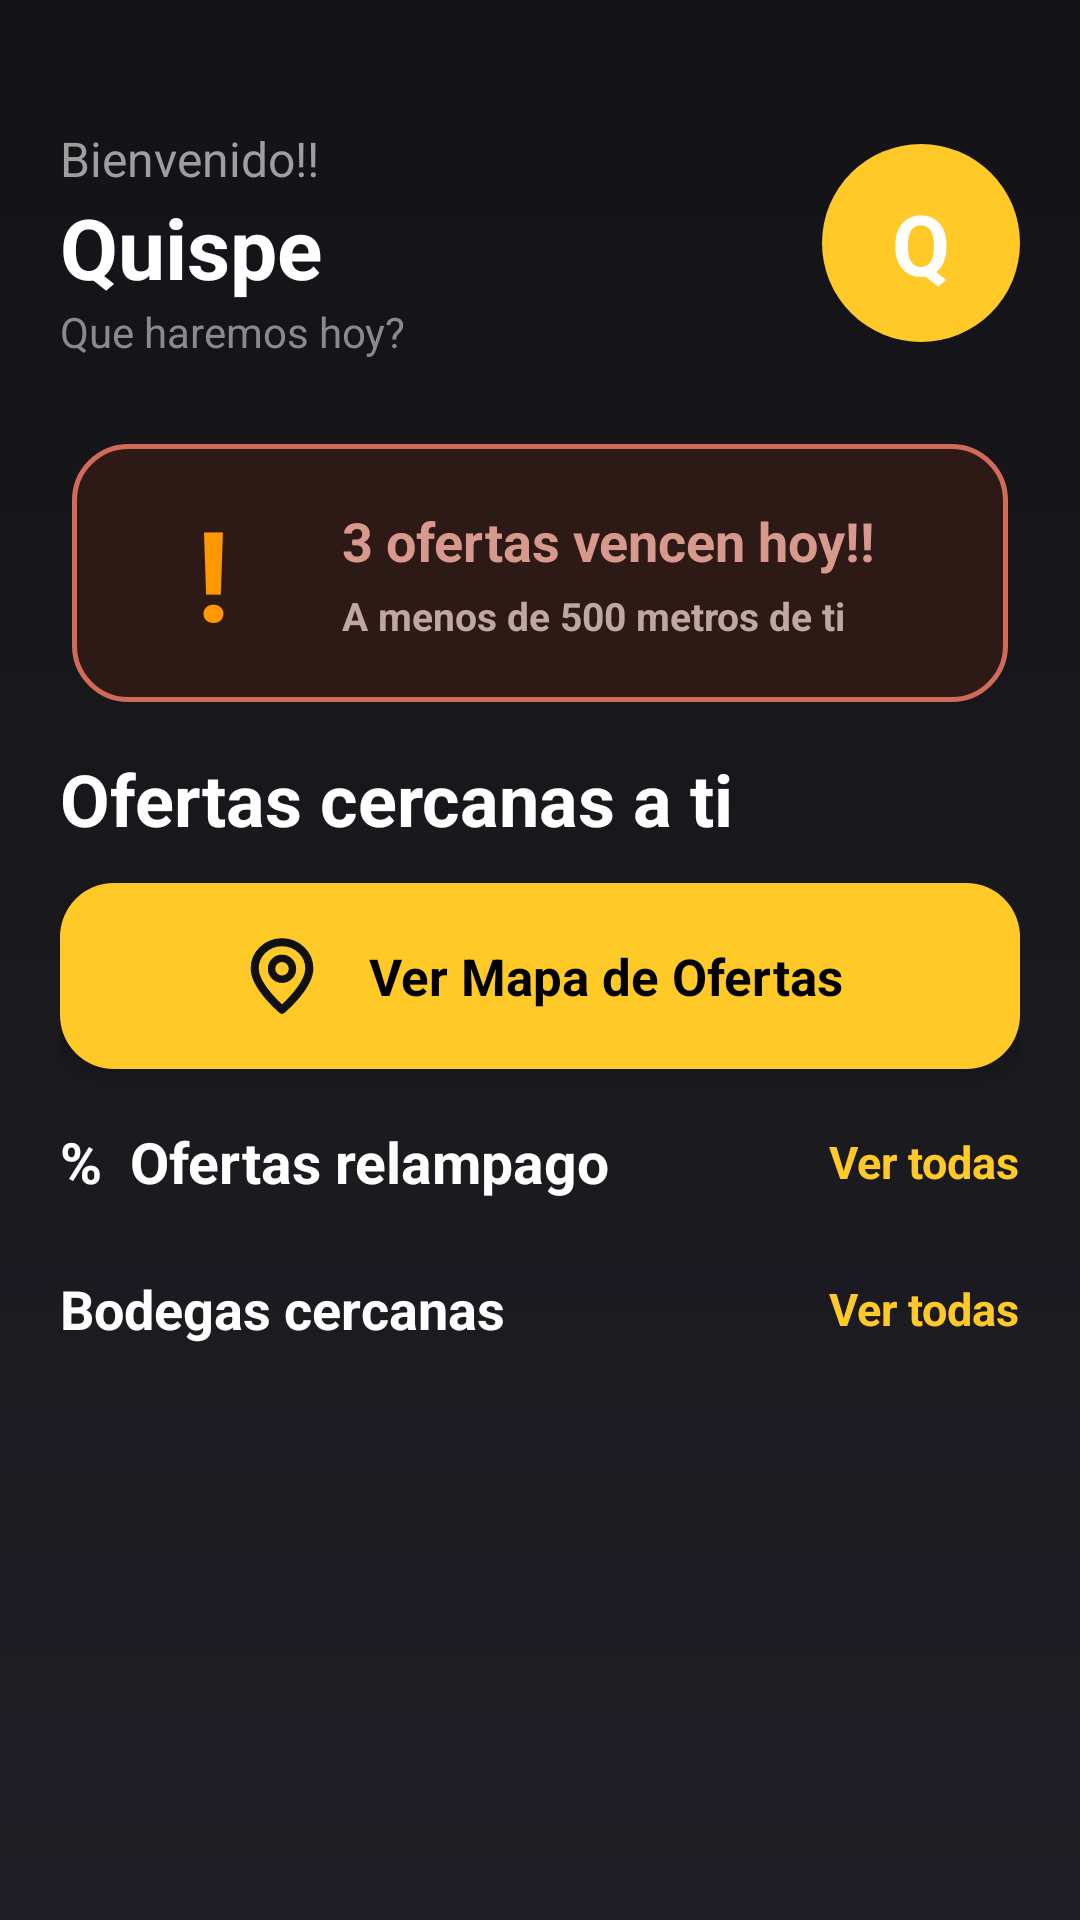

Locate icon controls on the screen. Image size 1080x1920, boxes as (x1, y1, x2, y2).
Ubicacion: (250, 938, 314, 1014)
